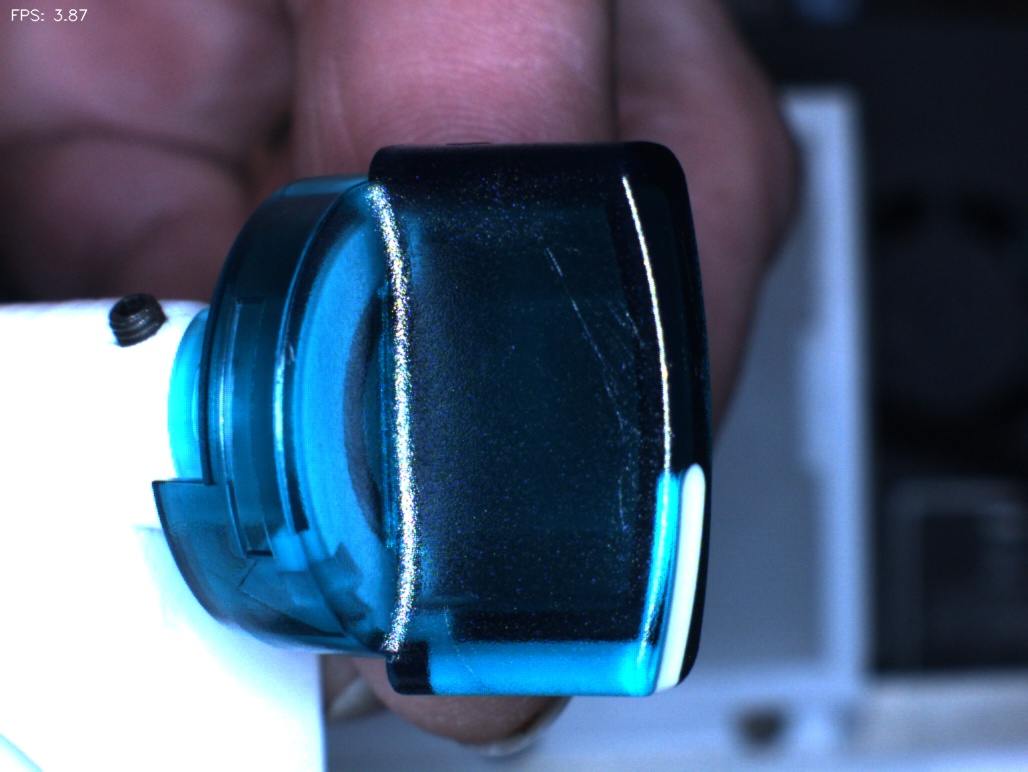Givrage: (537, 239, 669, 515)
